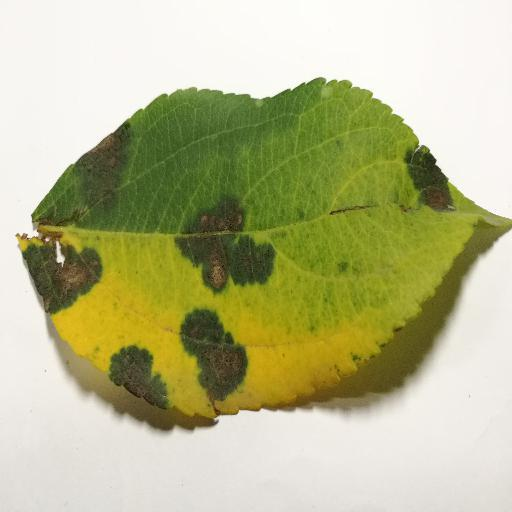Brown_Spot: (183, 199, 258, 284), (30, 239, 102, 305), (395, 145, 449, 221), (117, 348, 173, 409), (189, 321, 236, 388), (66, 146, 130, 195)
